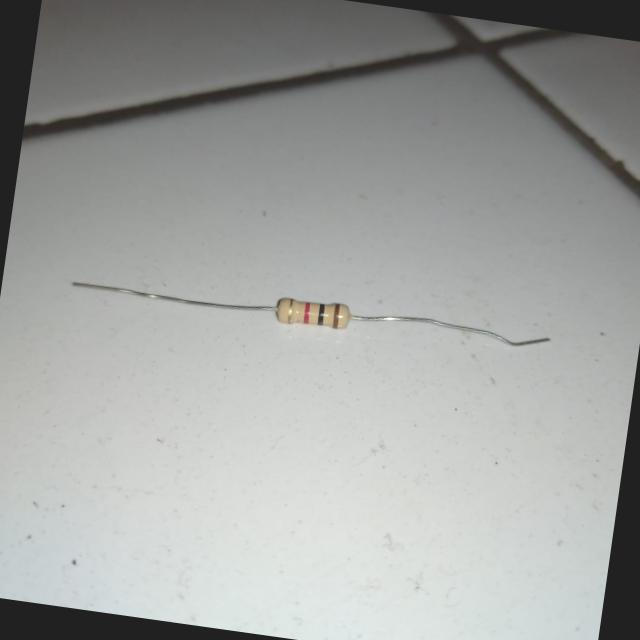Resistor: (275, 297, 353, 330)
black: (318, 304, 325, 326)
brown: (332, 304, 340, 330)
gold: (286, 298, 294, 324)
red: (304, 302, 310, 324)
